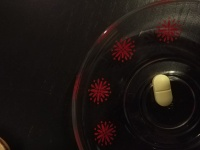Aferin: (152, 73, 174, 108)
